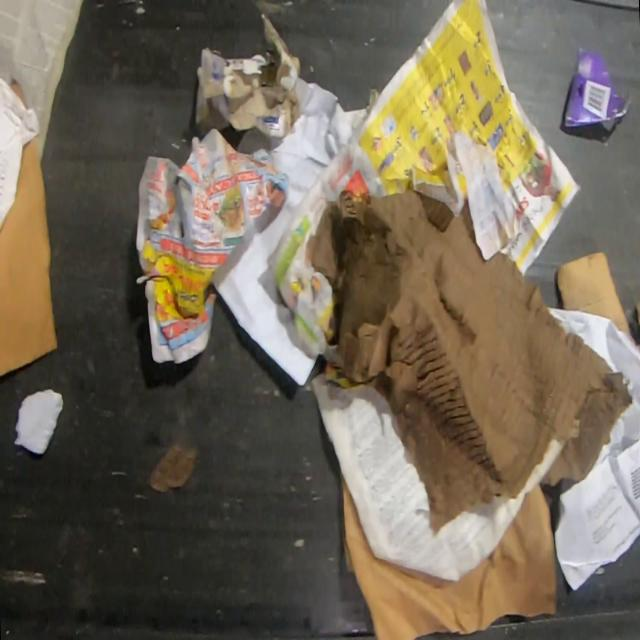cardboard: (308, 187, 632, 532), (341, 467, 559, 639), (0, 136, 58, 378), (554, 252, 636, 343), (561, 50, 632, 137)
